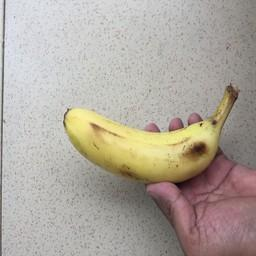Banana Ripe: (46, 79, 256, 190)
